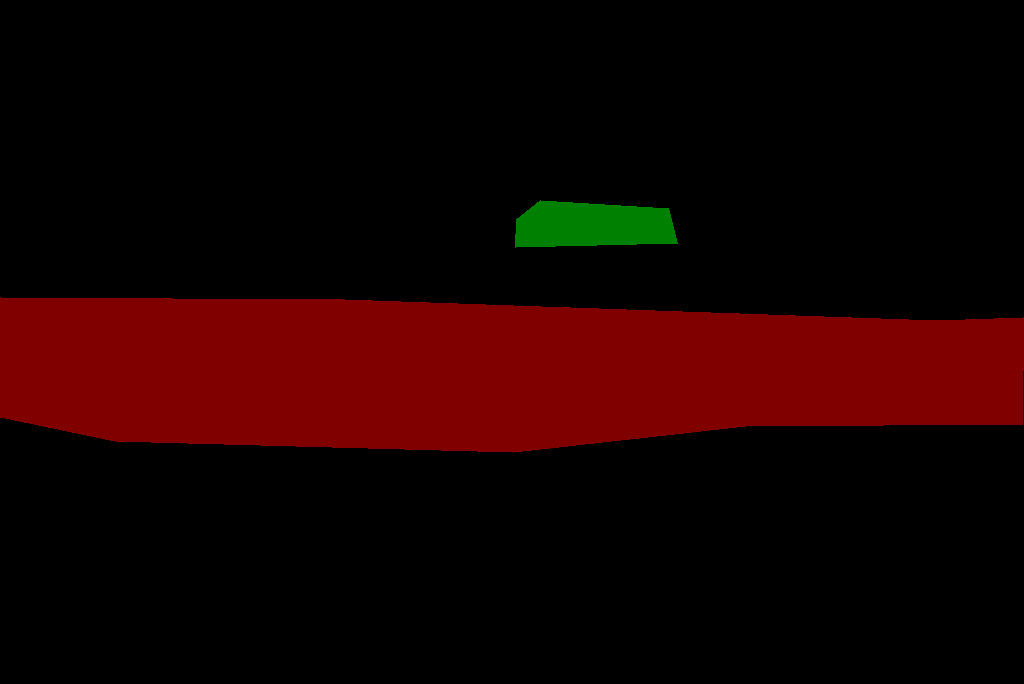fire: (0, 297, 1023, 452), (515, 200, 677, 247)
